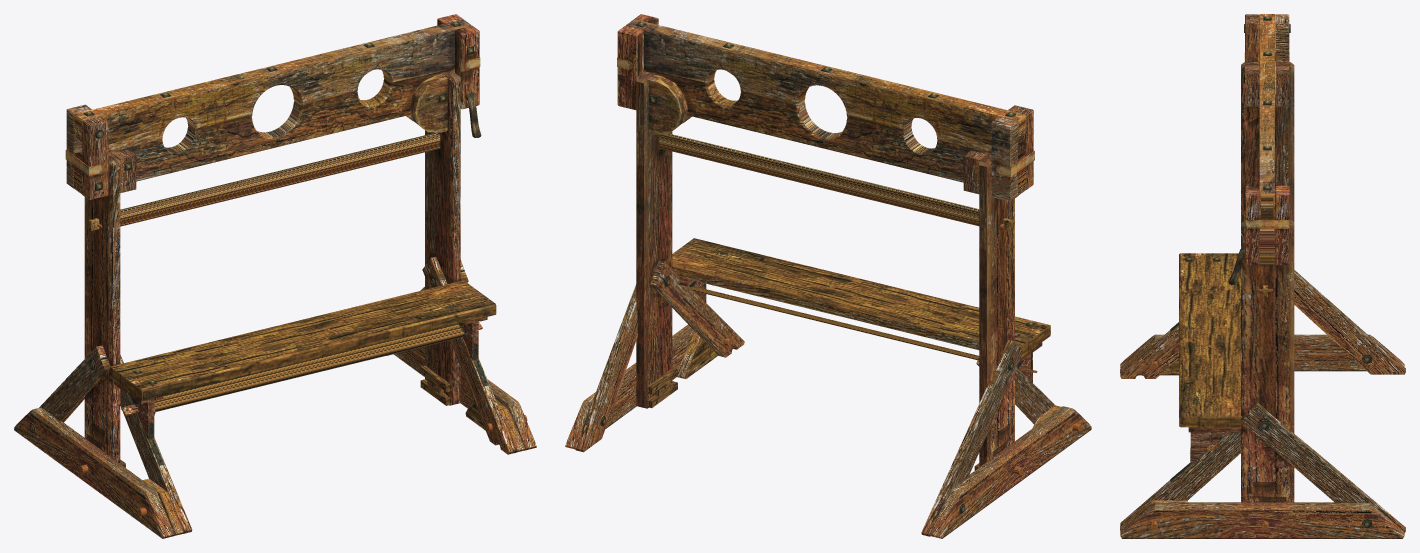
File: pillory_wood.glb
The picture shows the model from 3 angles, left to right: view 1: azimuth 30°, elevation 25°; view 2: azimuth 150°, elevation 25°; view 3: azimuth 270°, elevation 25°; orthographic projection. The views are drawn at different scales.
Visible parts, largest first — view 1: Plane_Material_0; view 2: Plane_Material_0; view 3: Plane_Material_0.
Part boxes in pixels (x1,y1,x2,y2): Plane_Material_0: [14, 14, 536, 538]; Plane_Material_0: [565, 14, 1091, 538]; Plane_Material_0: [1120, 14, 1405, 538].
Size of the model in its own units: 3126 by 2823 by 2086.
1 material, 1 textured.
